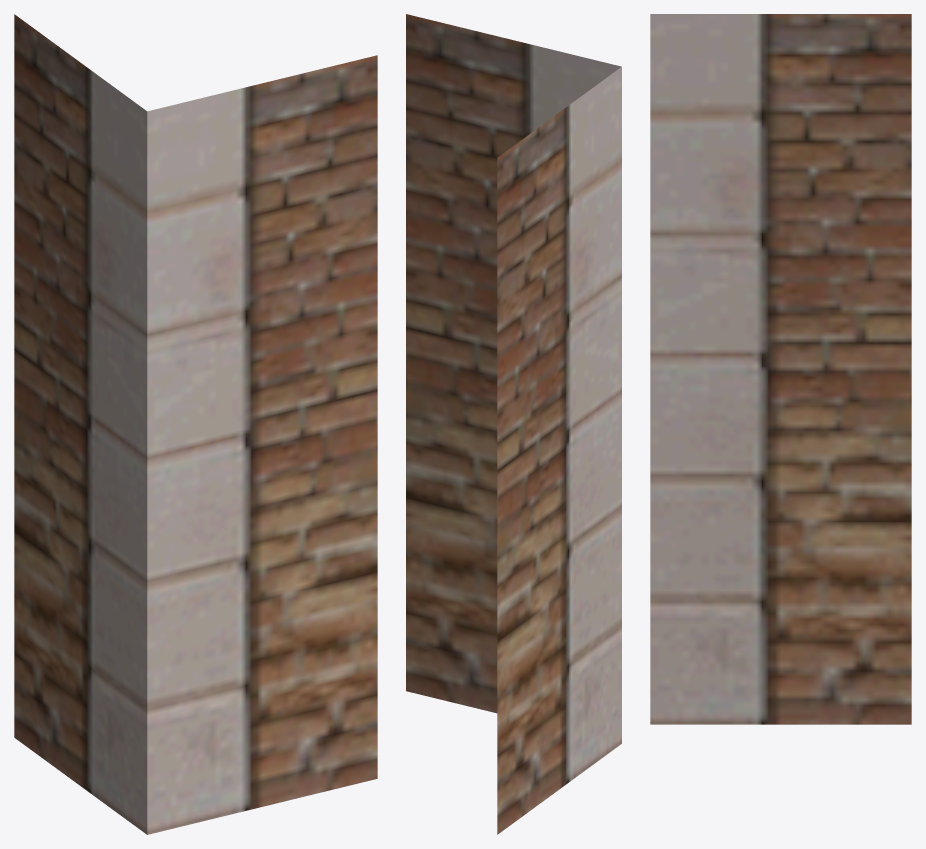
The model's file is Urban_FancyBrickWallCorner_Model.fbx.
3 renders of one model, left to right at view 1: azimuth 30°, elevation 25°; view 2: azimuth 150°, elevation 25°; view 3: azimuth 270°, elevation 25°, orthographic. The views are drawn at different scales.
Visible parts, largest first — view 1: Urban_FancyBrickWallCorner_Mesh; view 2: Urban_FancyBrickWallCorner_Mesh; view 3: Urban_FancyBrickWallCorner_Mesh.
Part boxes in pixels (<box>): Urban_FancyBrickWallCorner_Mesh: <box>14,14,377,834</box>; Urban_FancyBrickWallCorner_Mesh: <box>406,14,621,834</box>; Urban_FancyBrickWallCorner_Mesh: <box>650,14,911,724</box>.
Size of the model in its own units: 0.7 by 2.1 by 0.7.
